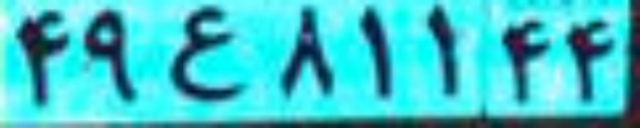1: (355, 6, 395, 96), (422, 6, 459, 97)
4: (12, 7, 73, 105), (499, 17, 551, 103), (564, 19, 614, 103)
8: (280, 5, 336, 98)
9: (83, 8, 138, 103)
ain: (168, 5, 238, 103)
